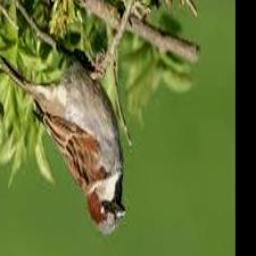Sparrow: (0, 53, 126, 235)
